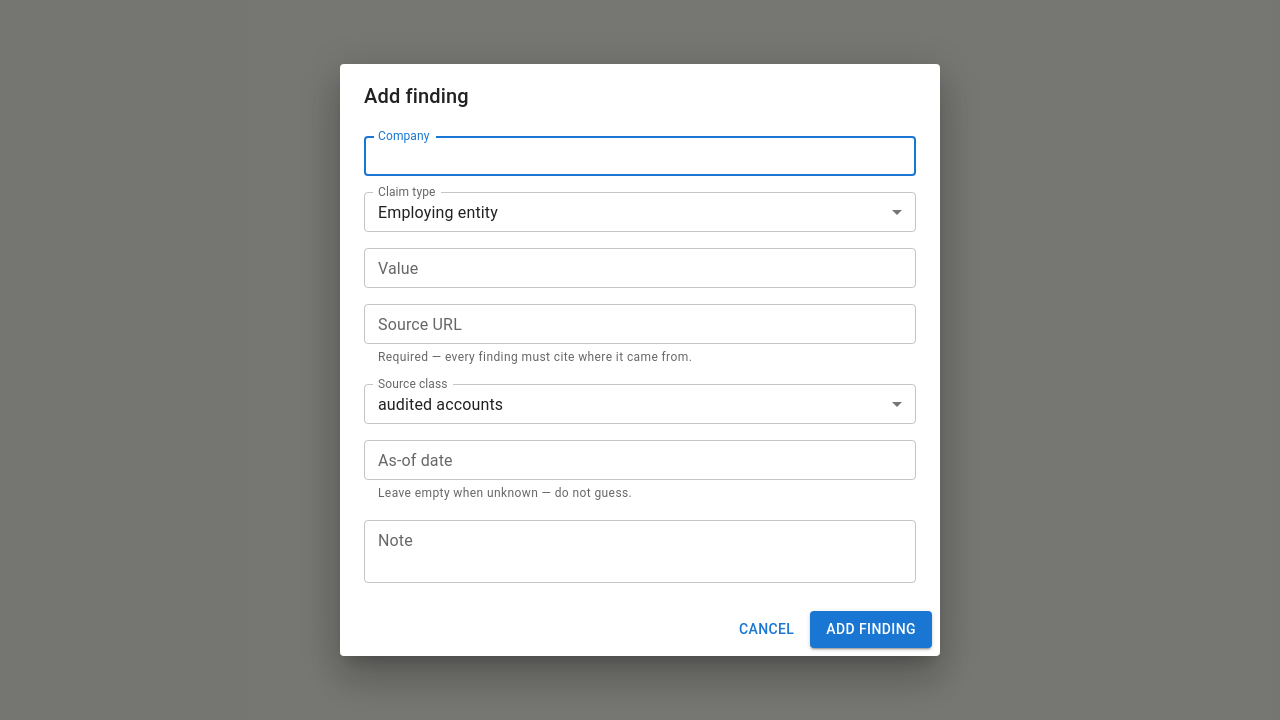
Scenario: FindingDialog › requires a source URL containing ://
This screenshot has width=1280, height=720.
Type "Globex" into the dropdown labelled "Company" at (638, 156), box 370,142 -> 907,170
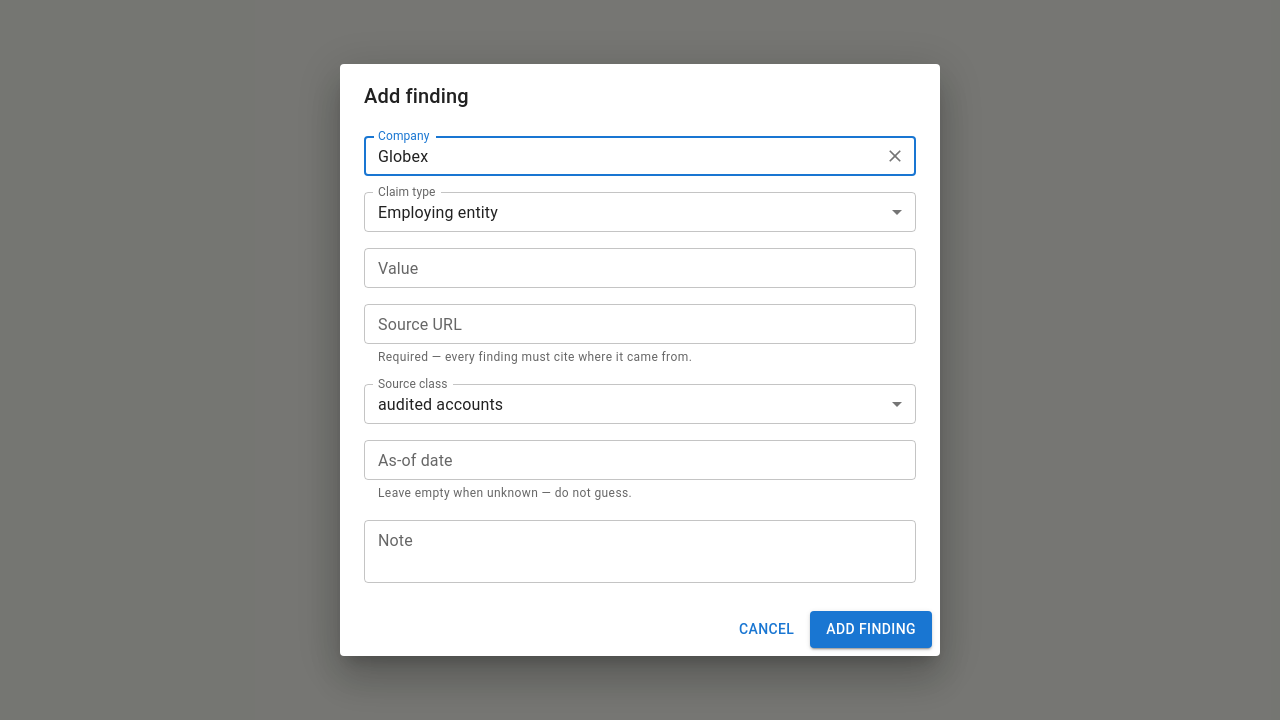
Type "x" into the field labelled "Value" at (640, 268), box 364,248 -> 916,288
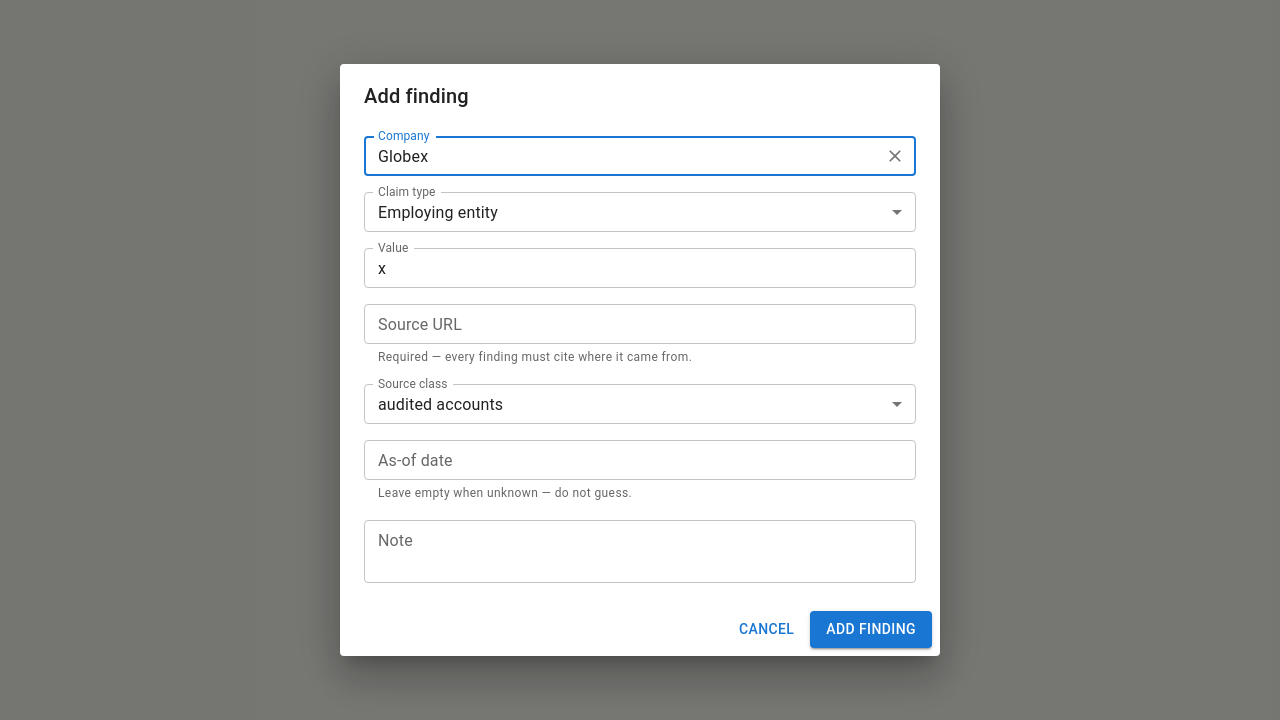
Click the button "Add finding" at (871, 629), box 810,611 -> 932,648
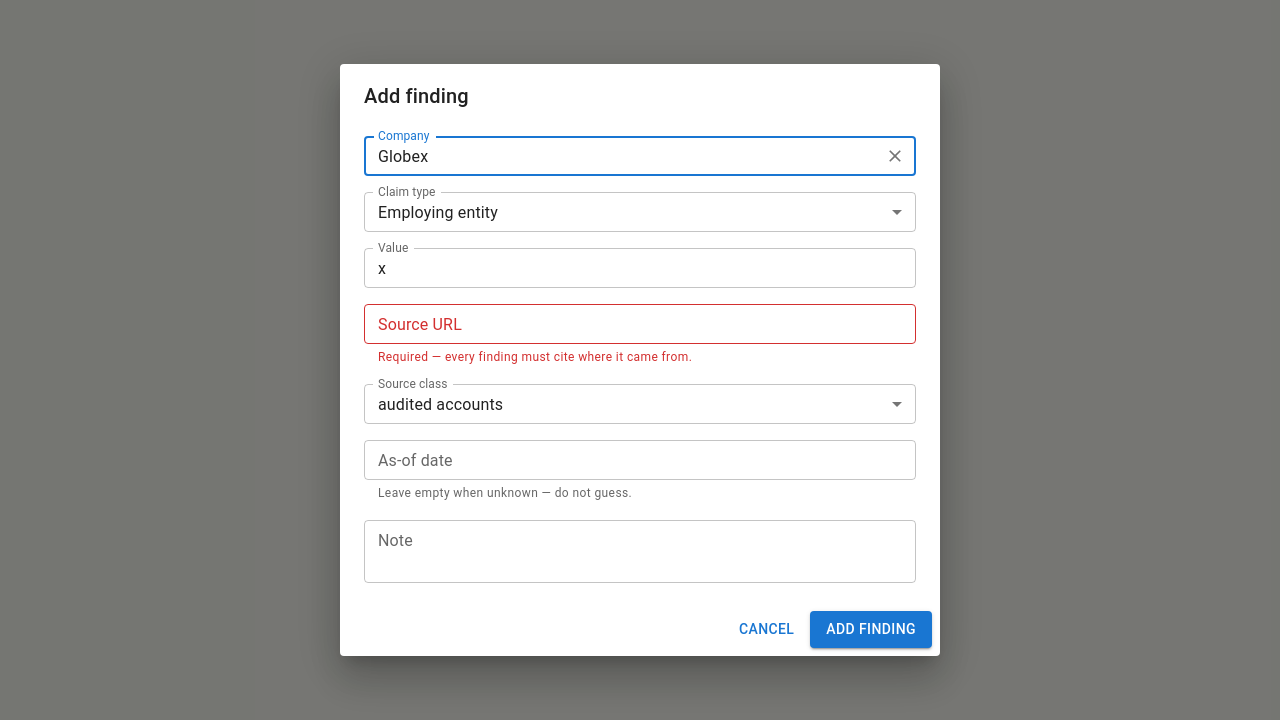
Expected: the text "Required — every finding must cite where it came from." is shown, 378,350 -> 692,364
Type "example.com" into the field labelled "Source URL" at (640, 324), box 364,304 -> 916,344
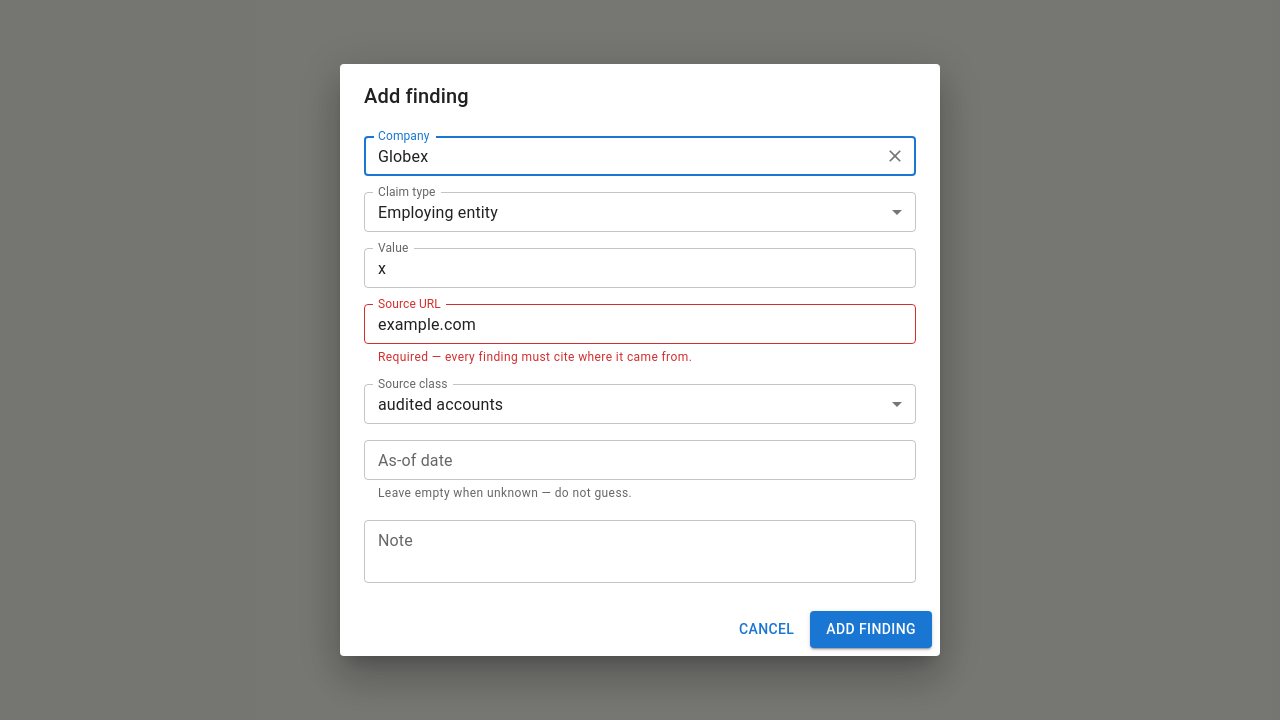
Click the button "Add finding" at (871, 629), box 810,611 -> 932,648
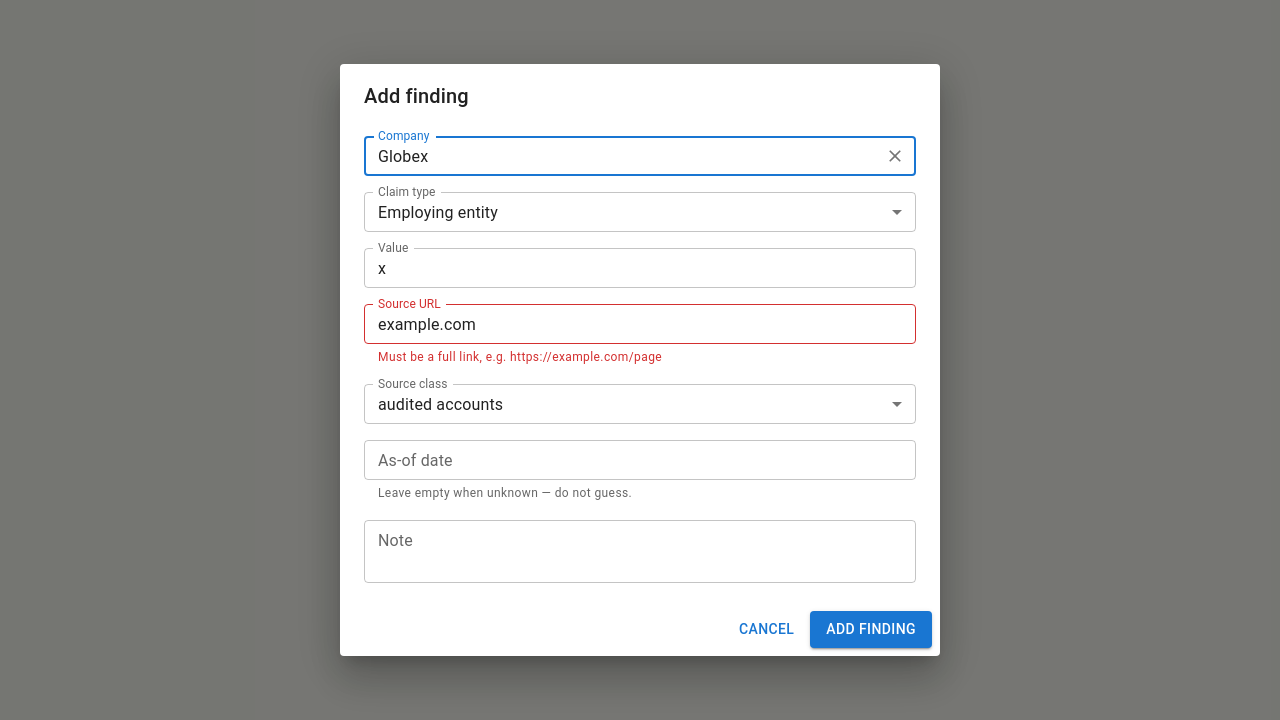
Now the text "Must be a full link, e.g. https://example.com/page" is shown, box 378,350 -> 662,364
